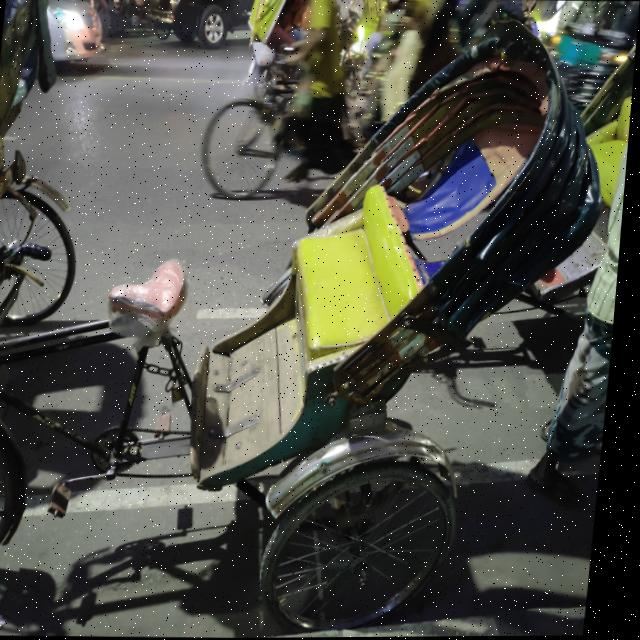rikshaw: (0, 50, 582, 640)
